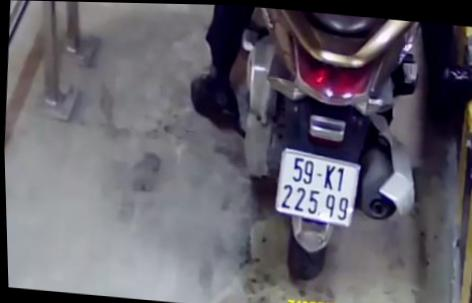LP: (277, 147, 357, 227)
